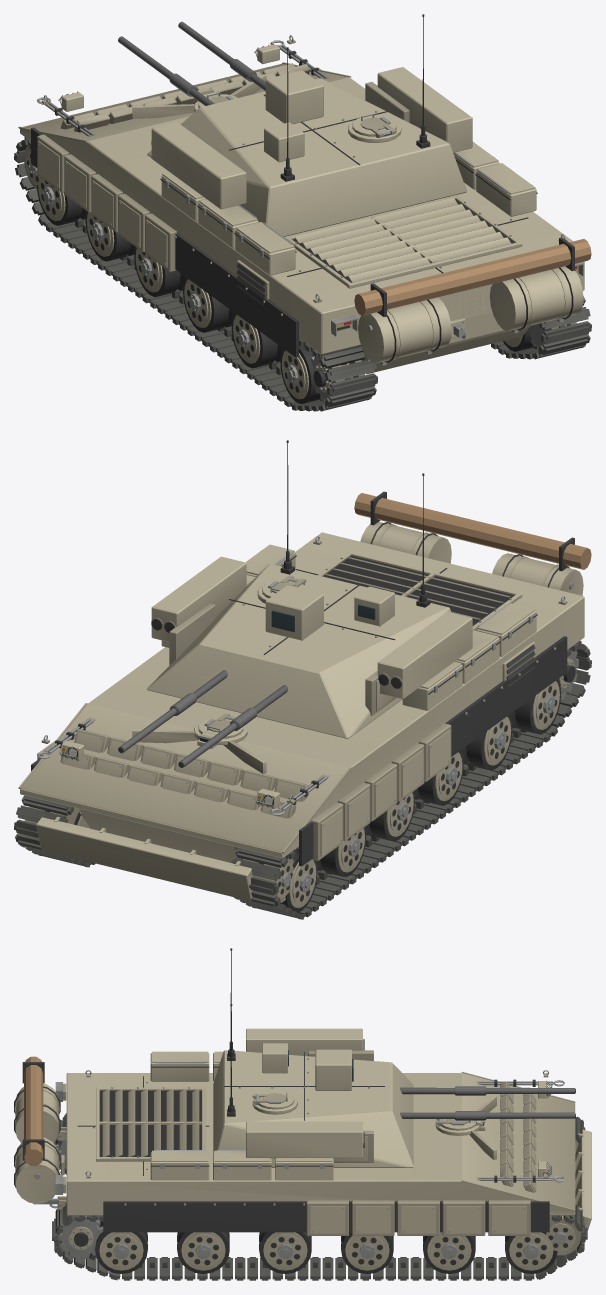
File: rus_ifv_bmpt.glb
3 views of the same model, one above another, from view 1: azimuth 30°, elevation 25°; view 2: azimuth 150°, elevation 25°; view 3: azimuth 270°, elevation 25° (orthographic). The views are drawn at different scales.
Parts seen in each view (by area): view 1: body, turret, barrel; view 2: body, turret, barrel; view 3: body, turret, barrel.
Part boxes in pixels (x1,y1,x2,y2): body: (14,35,591,411); turret: (147,14,466,236); barrel: (118,21,472,209); body: (14,491,591,919); turret: (147,440,451,738); barrel: (118,556,472,767); body: (14,1051,591,1280); turret: (213,948,413,1167); barrel: (246,1028,575,1158).
Bounding box in the file's own units: 3.78 × 3.77 × 7.9.
